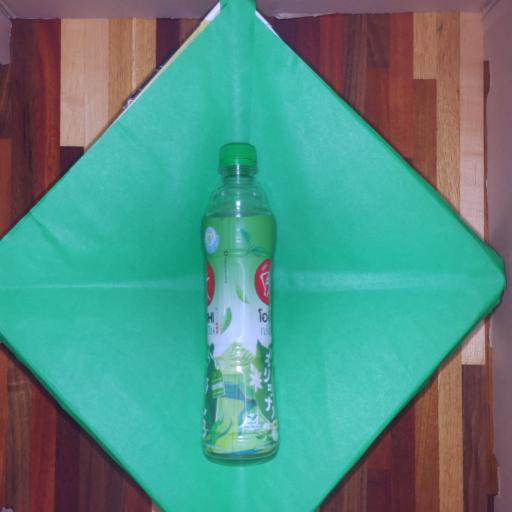bottle: (202, 144, 278, 459)
